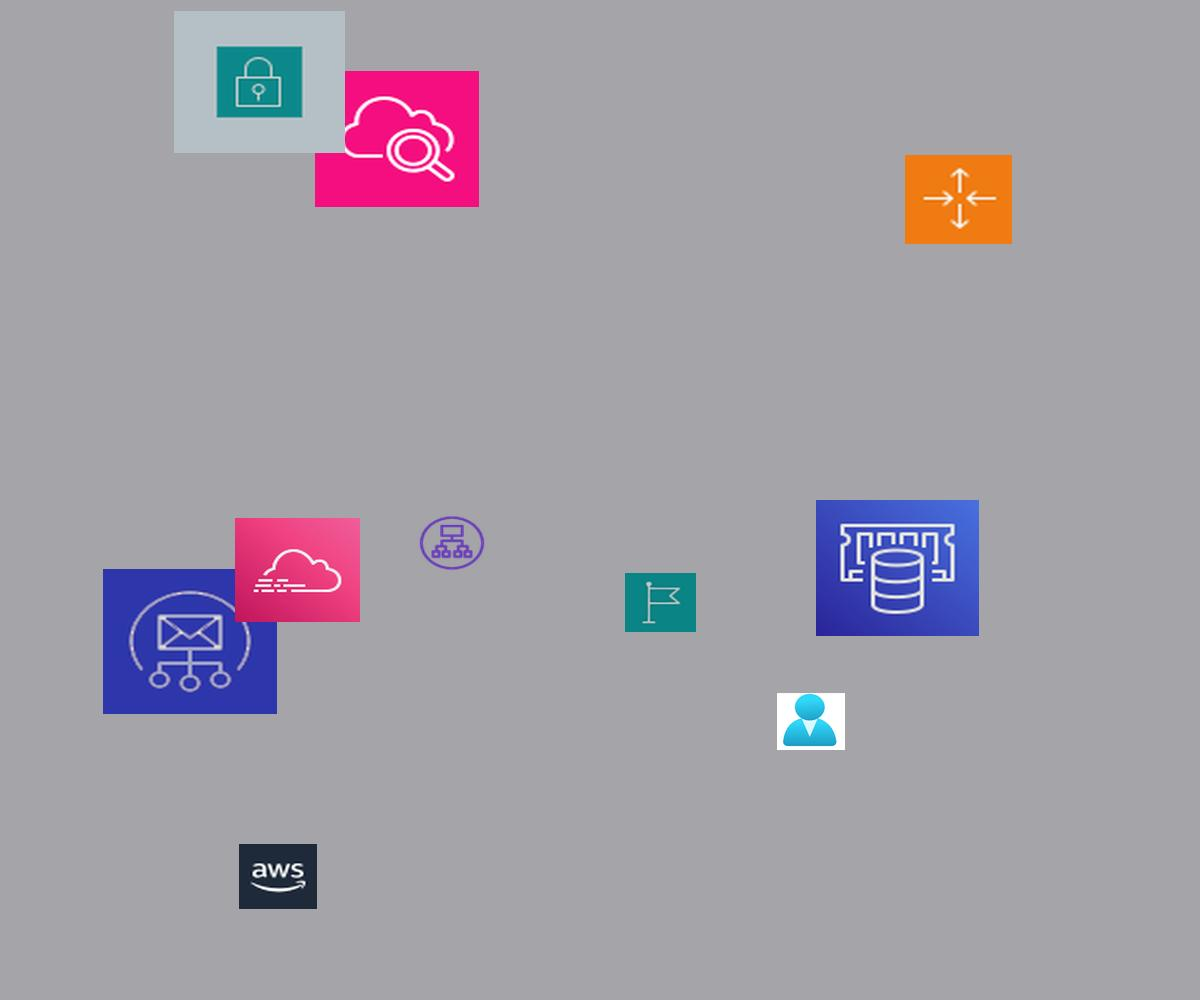AWS-Cloud-logo: (239, 844, 317, 909)
AWS-CloudTrail: (235, 518, 360, 622)
AWS-CloudWatch: (315, 71, 479, 207)
AWS-ElastiCache: (816, 500, 979, 636)
AWS-Private-subnet: (174, 11, 345, 153)
AWS-Region: (625, 573, 696, 632)
AWS-Res_Elastic-Load-Balancing_Application-Load-Balancer: (417, 514, 487, 572)
AWS-Scaling-group: (905, 155, 1012, 244)
AWS-Simple-Email-Service: (103, 569, 277, 714)
Azure_users: (777, 693, 845, 750)
